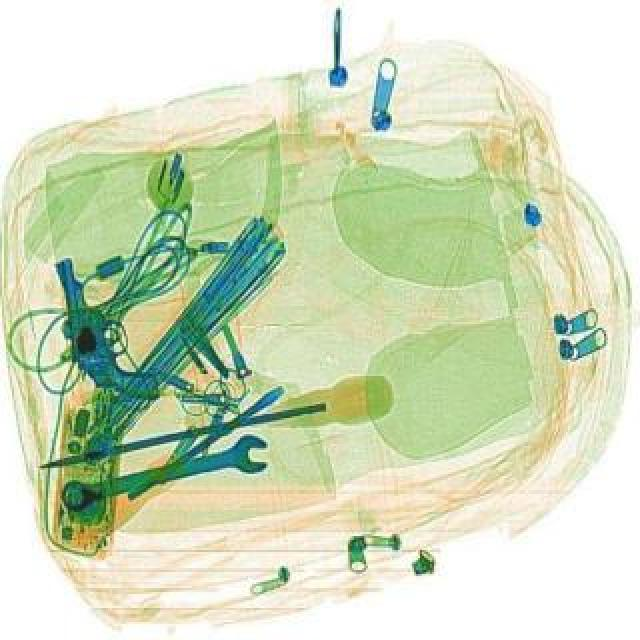gun: (54, 246, 158, 410)
scissors: (54, 430, 270, 518)
